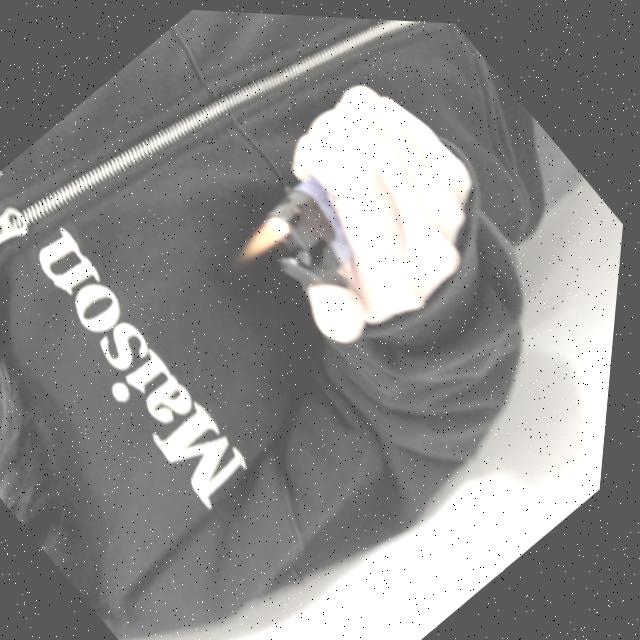Fire: (233, 204, 300, 268)
